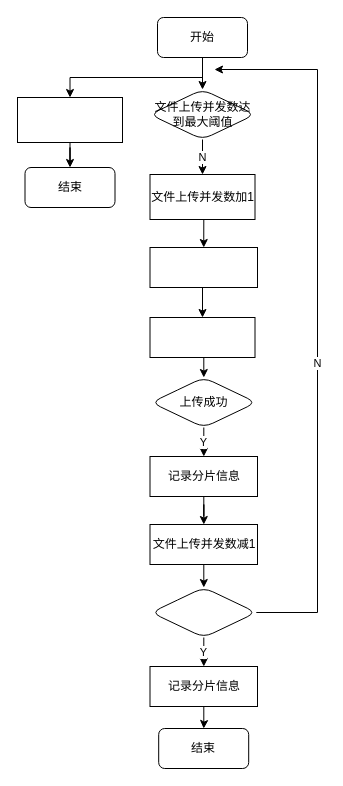
Some shapes in this 343 by 786 pixel diagram are drawn without their labels. Each missing label, with the centre of its shape:
"上传影像平台" goes at pixel 202 337.
"全部已上传" goes at pixel 203 612.
"分片文件上传" goes at pixel 203 267.
"查询视频已上传分片信息" goes at pixel 69 119.
